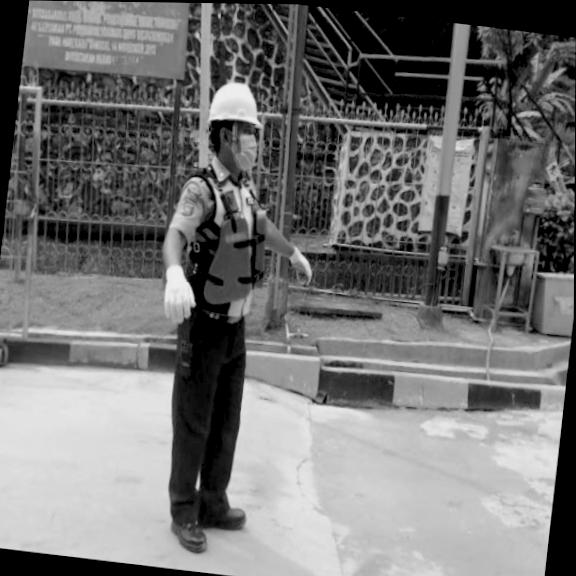safety_vest: (200, 201, 274, 309)
